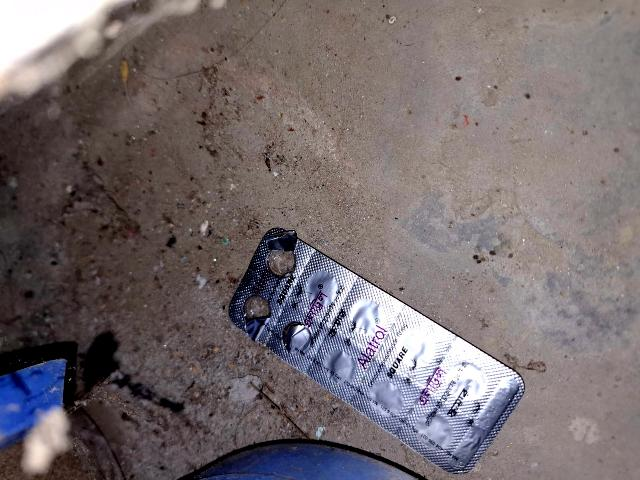medicine: (197, 223, 541, 480)
